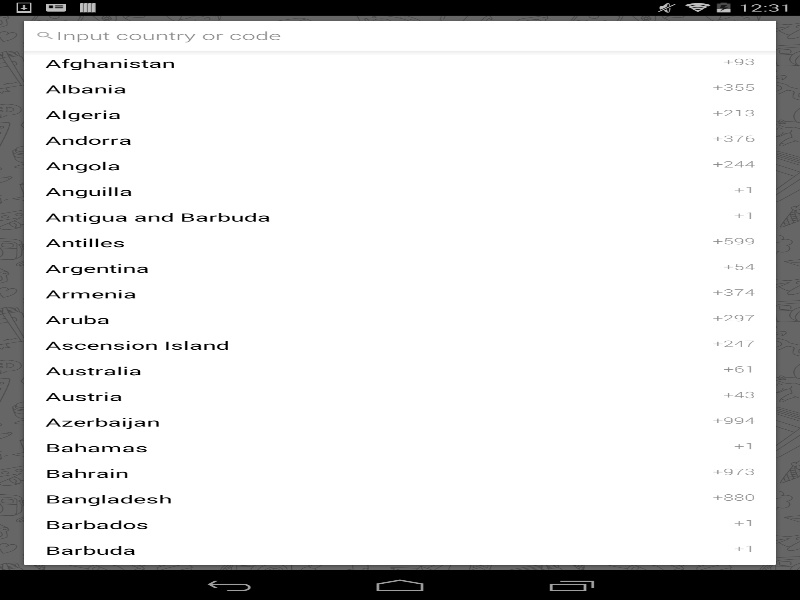Input: (56, 27, 754, 43)
